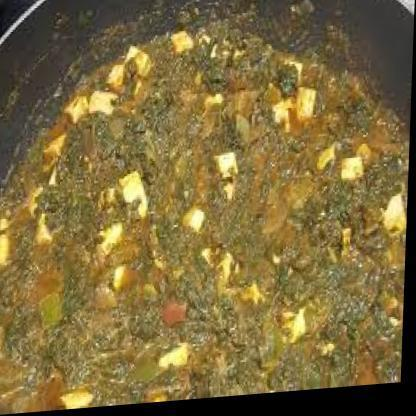palak_paneer: (0, 7, 415, 416)
